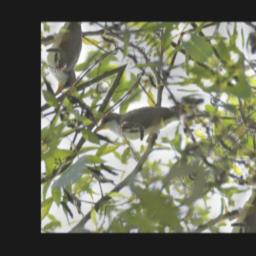Cuckoo: (89, 54, 237, 194)
